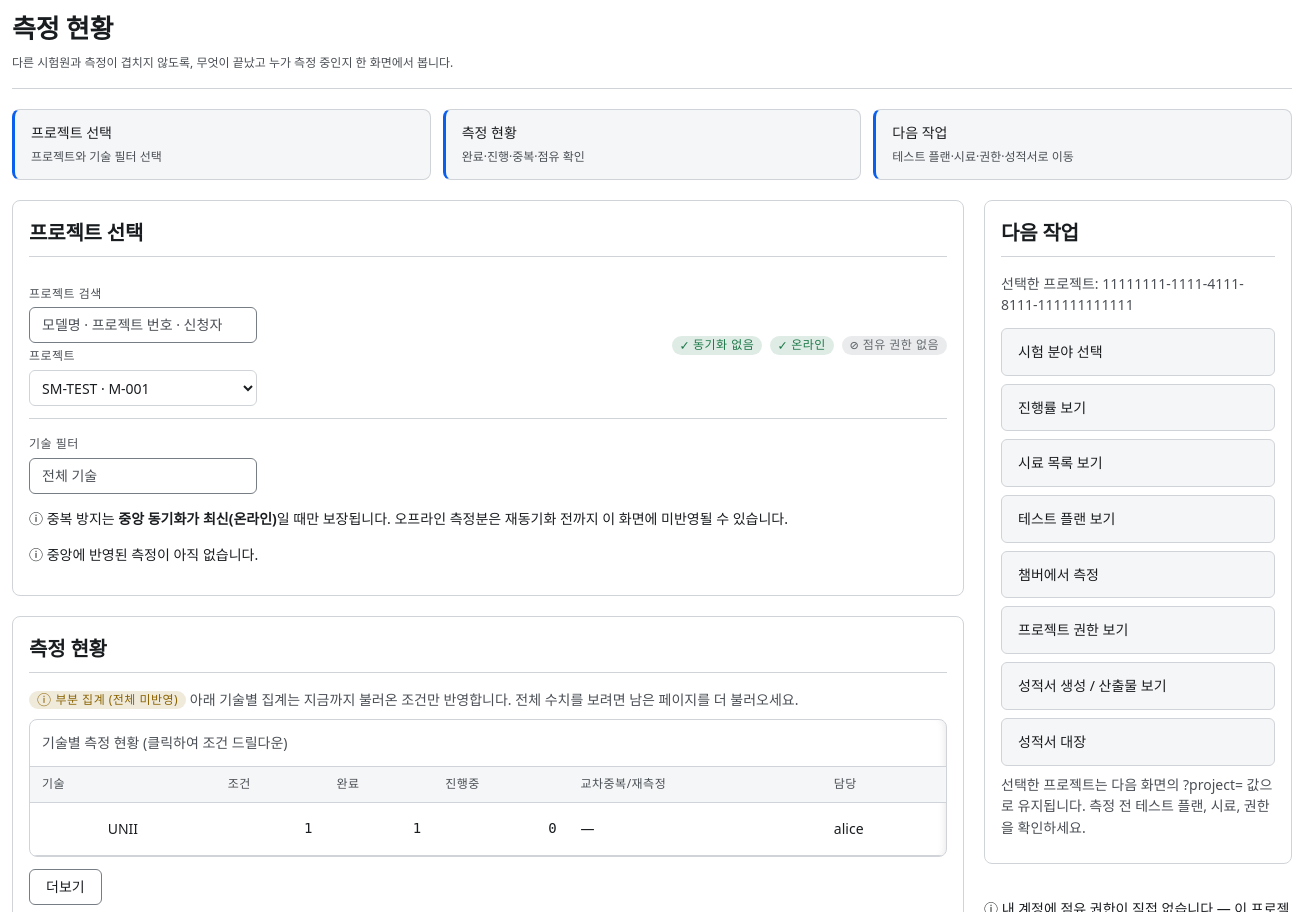
Test: ProjectsRoute keyset pagination (FE-P2 adoption) › loads more coverage pages on demand and stops at the last page
The image size is (1304, 912).
Expected: the table with test id "coverage-matrix" is shown, [30,720,946,856]
Expected: the number of rows with test id "tech-row" is 1, [30,803,946,856]
Note: Advancing requests the next page with the carried cursor and appends it.
Click the button with test id "coverage-load-more".
click(65, 887)  # box [29,869,102,905]
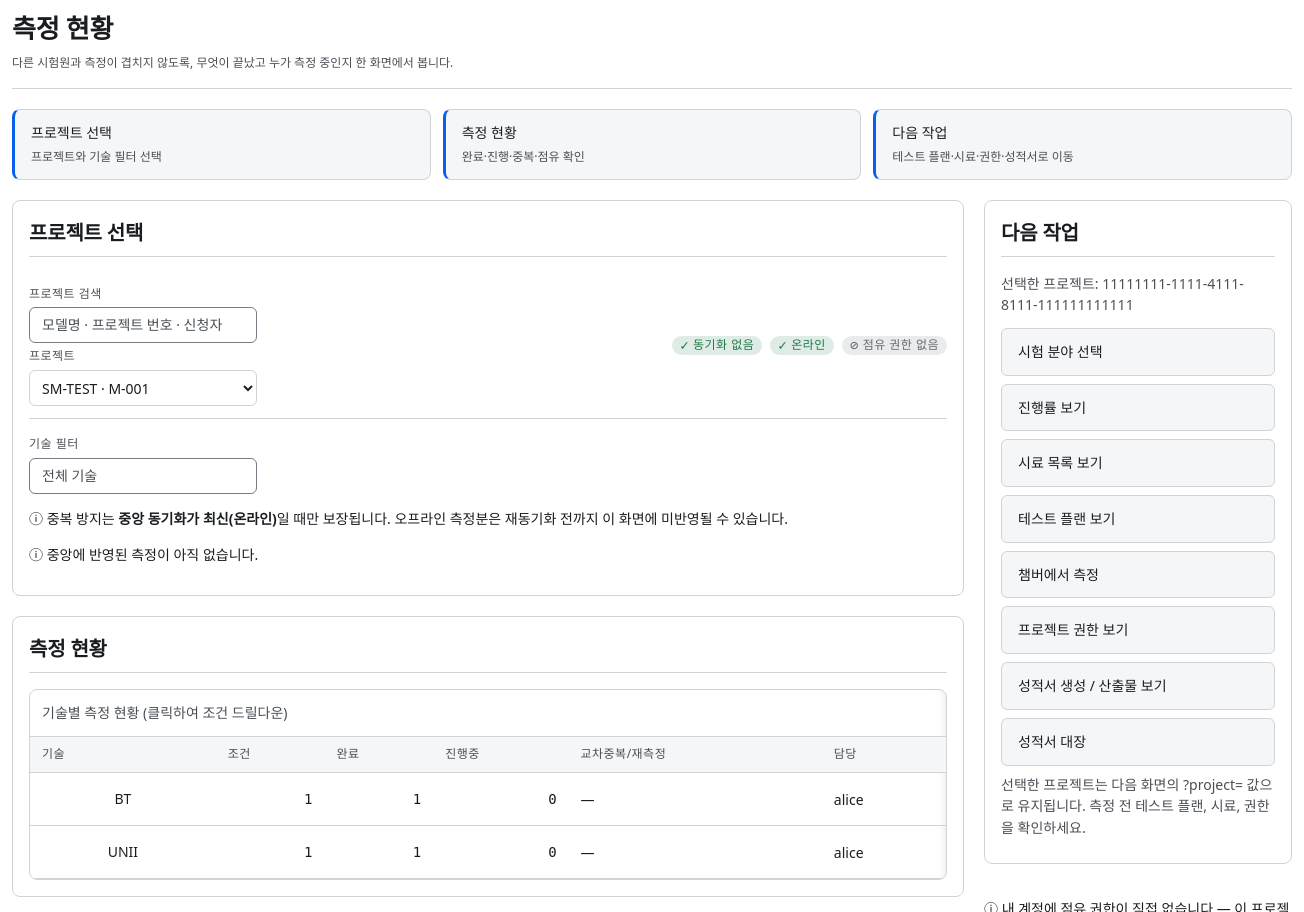
Result: the number of rows with test id "tech-row" is 2 at [30,773,946,826]; [30,826,946,879]
Result: the button with test id "coverage-load-more" is gone
